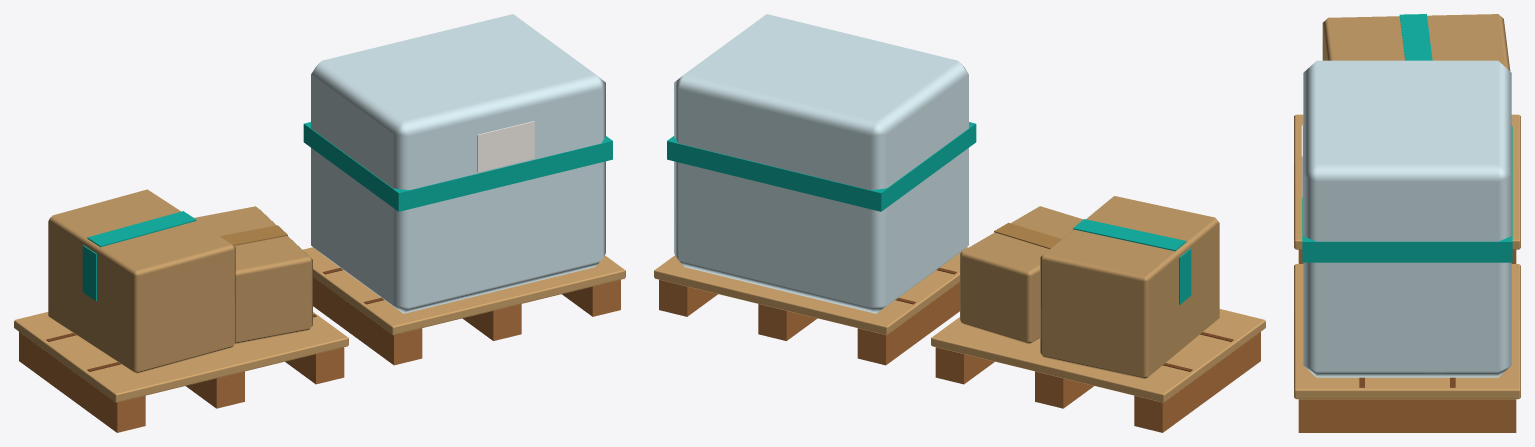
Rendered from station_special_ausstattung_2_2.glb.
3 renders of one model, left to right at view 1: azimuth 30°, elevation 25°; view 2: azimuth 150°, elevation 25°; view 3: azimuth 270°, elevation 25°, orthographic. The views are drawn at different scales.
Visible parts, largest first — view 1: station_special_ausstattung_2_2; view 2: station_special_ausstattung_2_2; view 3: station_special_ausstattung_2_2.
Boxes of the visible parts, x1,y1,x2,y2 form: station_special_ausstattung_2_2: (14,14,625,432); station_special_ausstattung_2_2: (654,14,1265,432); station_special_ausstattung_2_2: (1294,14,1520,432).
Bounding box in the file's own units: 1.44 × 0.631 × 0.5.
